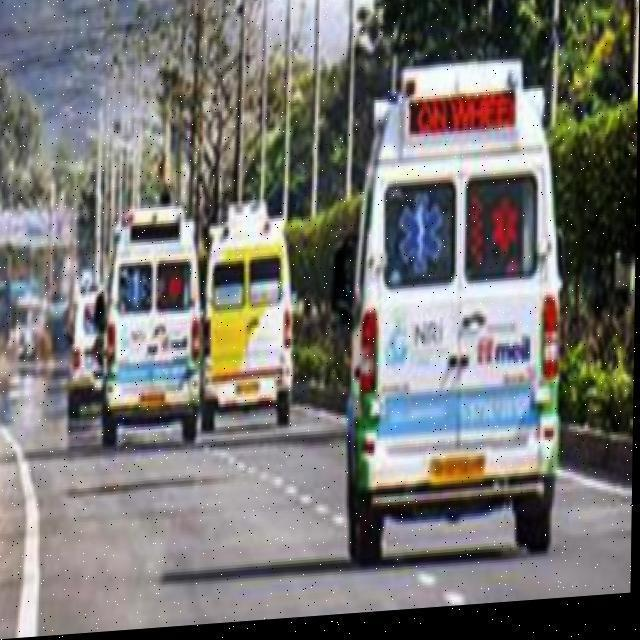Ambulance: (58, 57, 577, 596), (0, 308, 633, 638), (341, 61, 571, 576), (66, 195, 302, 457), (95, 203, 208, 453), (198, 201, 300, 439)
